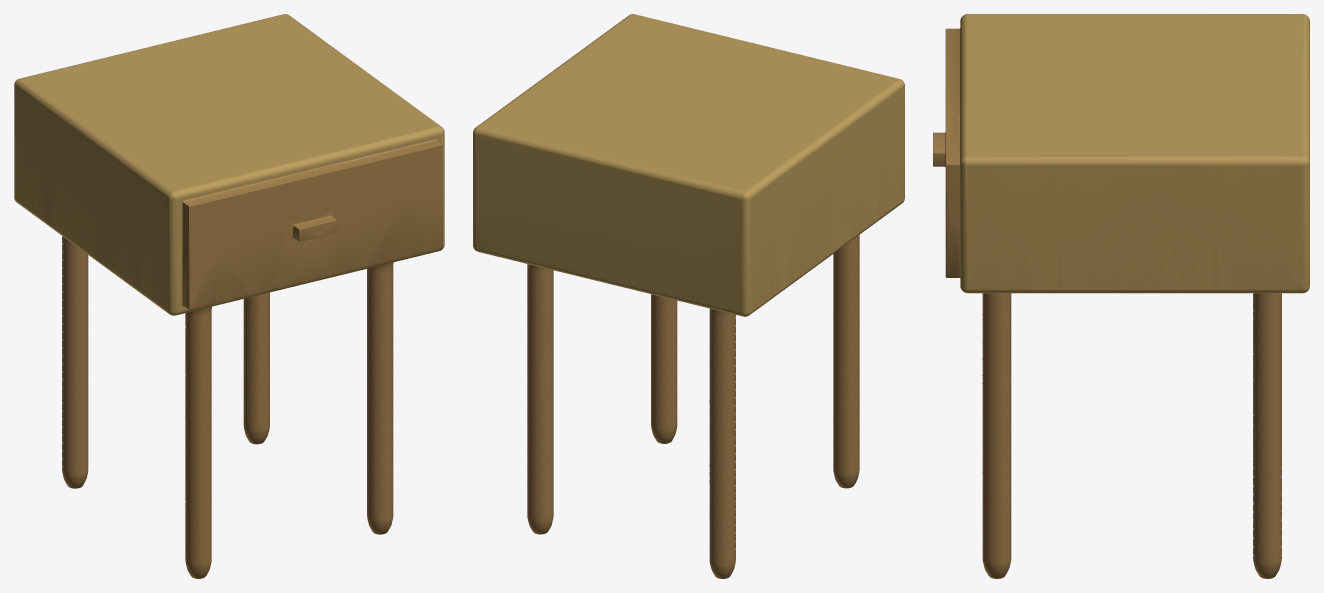
Rendered from SideTable.fbx.
3 views of the same model, side by side, from view 1: azimuth 30°, elevation 25°; view 2: azimuth 150°, elevation 25°; view 3: azimuth 270°, elevation 25° (orthographic). The views are drawn at different scales.
Visible parts, largest first — view 1: SideTable; view 2: SideTable; view 3: SideTable.
Part boxes in pixels (box(x1,y1,x2,y2)): SideTable: box(14, 14, 444, 578); SideTable: box(473, 14, 904, 578); SideTable: box(933, 14, 1309, 578).
Size of the model in its own units: 3.91 by 5.47 by 4.21.
1 material, 1 textured.
